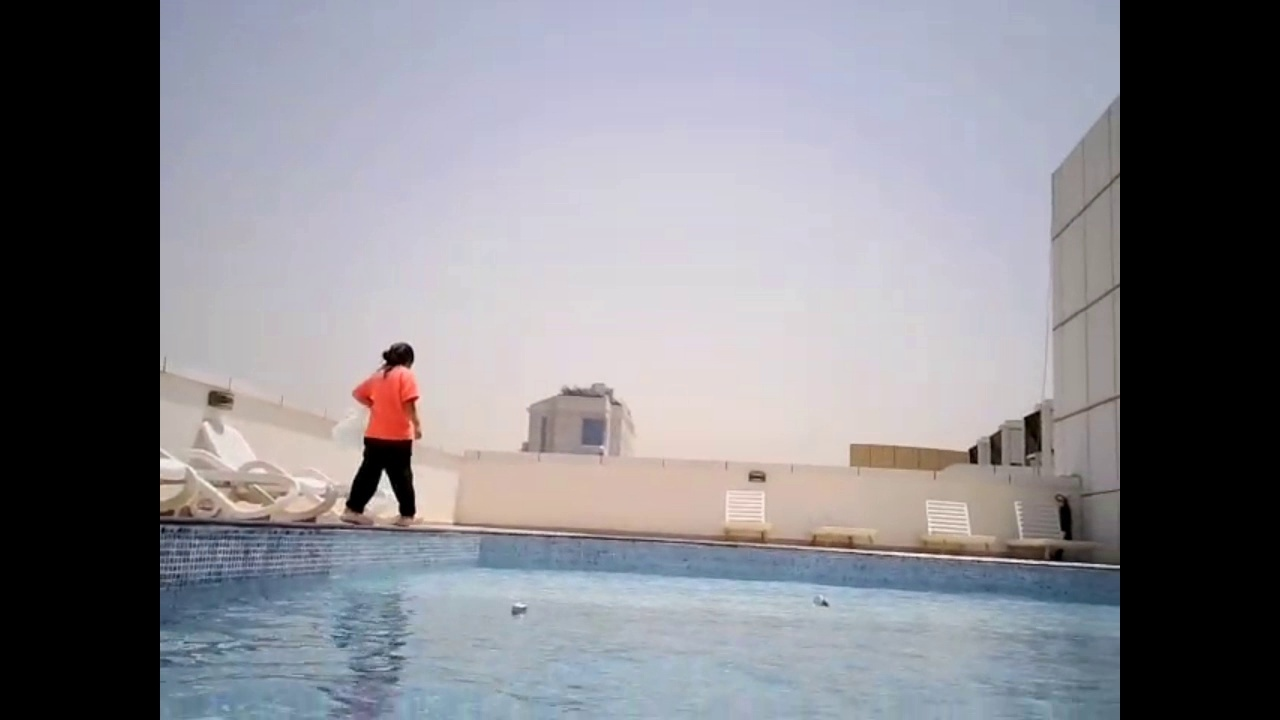debris: (506, 595, 530, 623), (806, 592, 834, 611)
